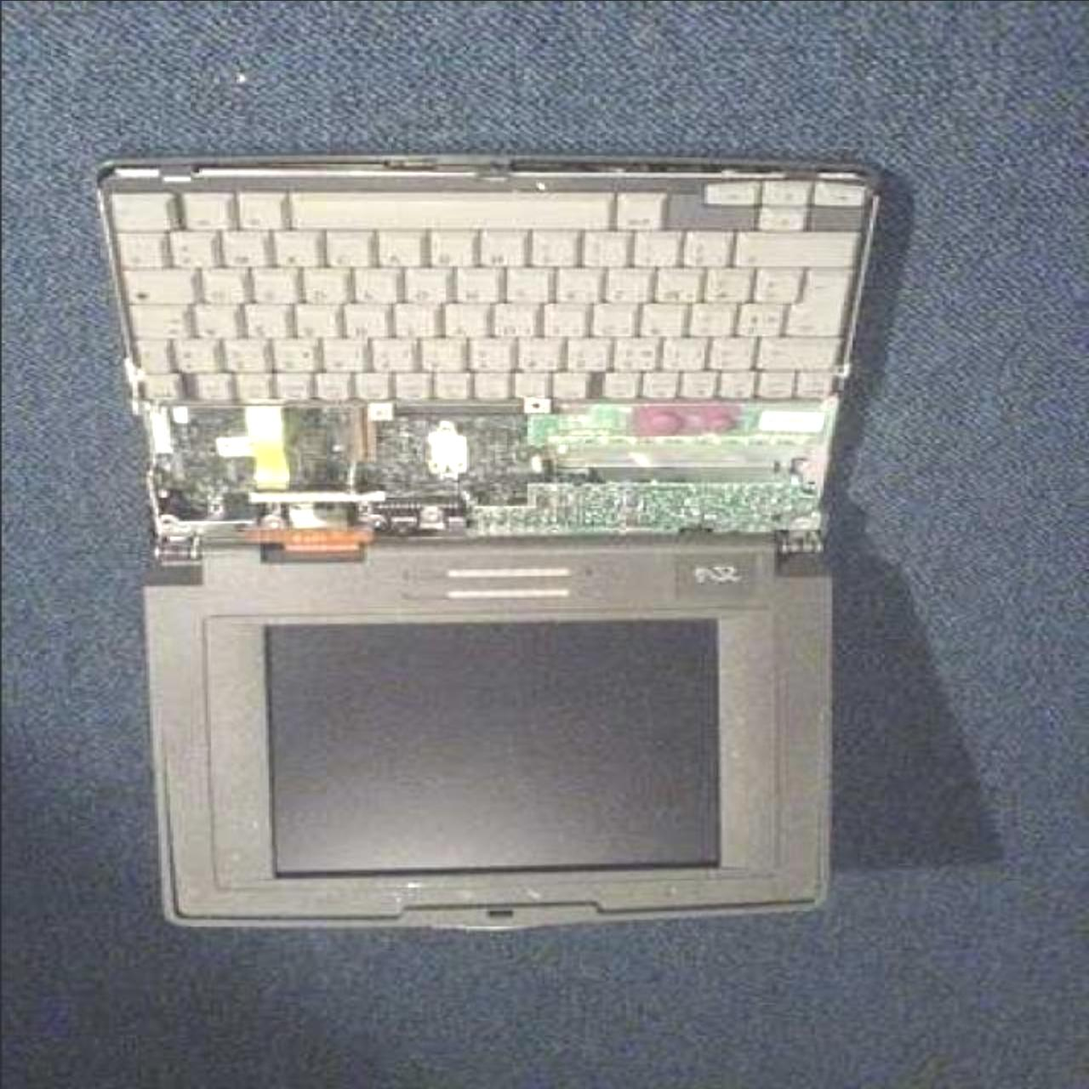laptop: (145, 124, 890, 924)
